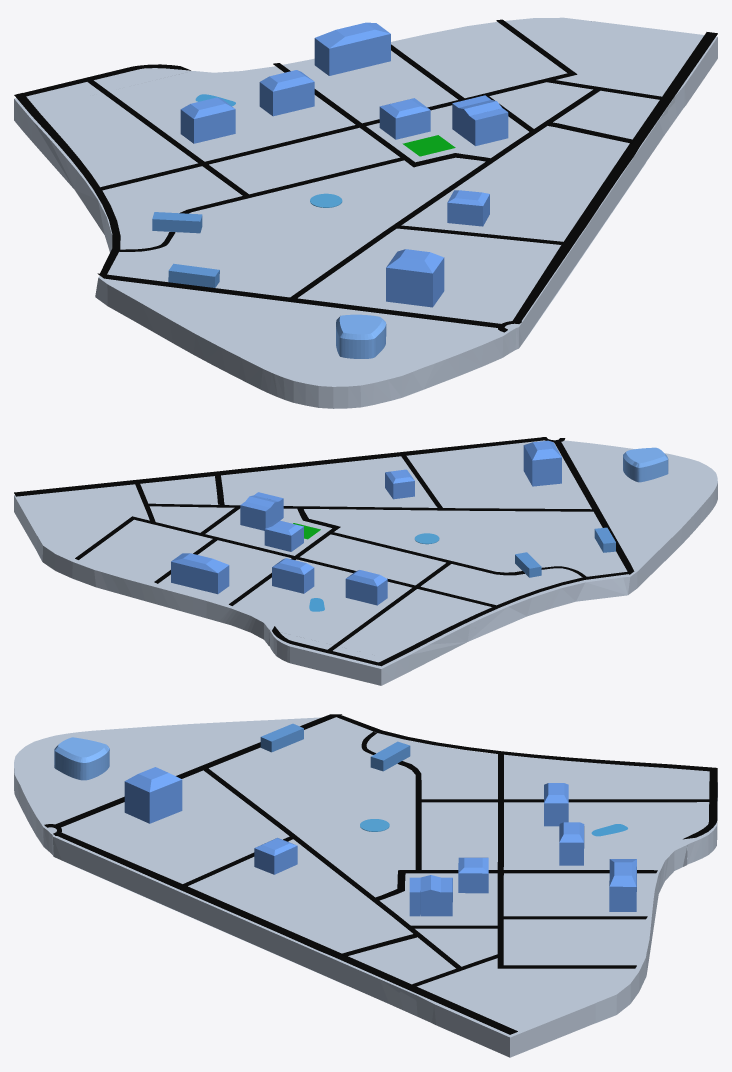
Rendered from ntu_map2.glb.
3 renders of one model, top to bottom at view 1: azimuth 30°, elevation 25°; view 2: azimuth 150°, elevation 25°; view 3: azimuth 270°, elevation 25°, orthographic. The views are drawn at different scales.
Visible parts, largest first — view 1: Cube, BézierCurve.022, second_library, second, library, BézierCurve.019, new_student, stadium, market, BézierCurve.017, BézierCurve.002, first_student (+11 smaller); view 2: Cube, BézierCurve.022, second_library, second, market, library, BézierCurve.017, new_student, stadium, BézierCurve.002, first_student, BézierCurve.019 (+9 smaller); view 3: Cube, BézierCurve.022, second, market, library, BézierCurve.017, BézierCurve.002, second_library, bank, first_student, new_student, BézierCurve.019 (+10 smaller).
Boxes of the visible parts, x1,y1,x2,y2 form: Cube: [14, 17, 717, 408]; BézierCurve.022: [512, 32, 717, 322]; second_library: [314, 22, 390, 75]; second: [386, 249, 444, 307]; library: [452, 95, 508, 146]; BézierCurve.019: [97, 273, 501, 327]; new_student: [259, 70, 314, 116]; stadium: [180, 97, 235, 143]; market: [336, 314, 386, 358]; BézierCurve.017: [289, 88, 600, 300]; BézierCurve.002: [14, 93, 120, 274]; first_student: [379, 98, 430, 139]; Cube: [14, 440, 717, 685]; BézierCurve.022: [14, 437, 545, 496]; second_library: [171, 553, 229, 594]; second: [523, 440, 561, 486]; market: [623, 447, 668, 482]; library: [240, 492, 283, 530]; BézierCurve.017: [148, 503, 596, 511]; new_student: [272, 558, 314, 593]; stadium: [345, 570, 387, 605]; BézierCurve.002: [375, 571, 628, 666]; first_student: [264, 520, 303, 551]; BézierCurve.019: [554, 441, 634, 574]; Cube: [14, 717, 717, 1057]; BézierCurve.022: [54, 832, 517, 1034]; second: [124, 767, 182, 823]; market: [54, 737, 109, 780]; library: [409, 875, 452, 916]; BézierCurve.017: [202, 767, 461, 968]; BézierCurve.002: [336, 715, 717, 771]; second_library: [609, 859, 636, 911]; bank: [254, 837, 297, 874]; first_student: [458, 857, 488, 893]; new_student: [559, 822, 584, 865]; BézierCurve.019: [55, 714, 341, 827].
Size of the model in its own units: 272 by 24.18 by 252.
